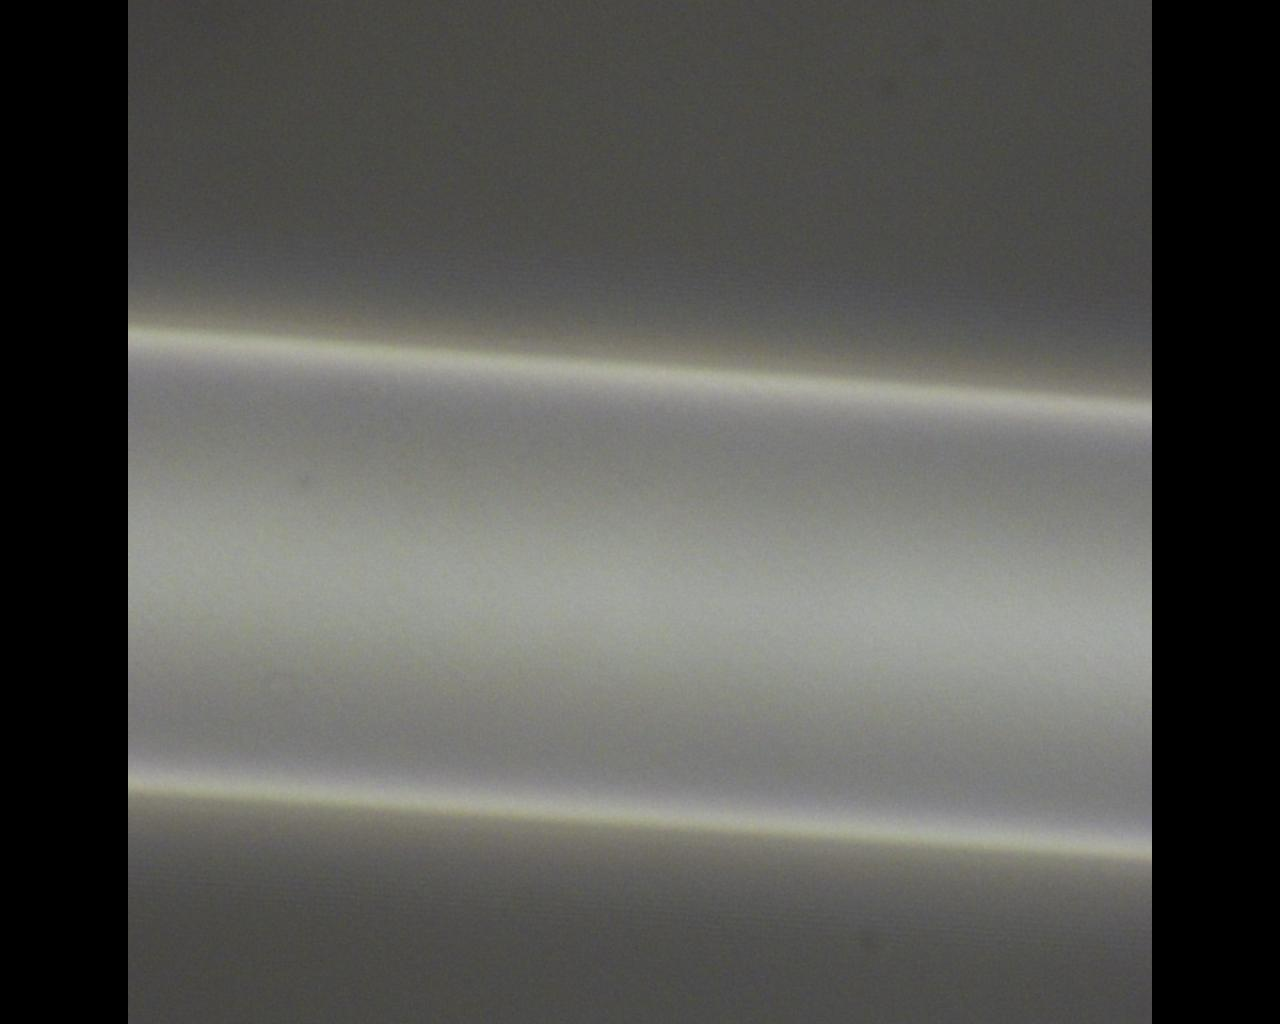fiber: (0, 42, 561, 272), (665, 228, 1280, 388), (665, 746, 1280, 841)
